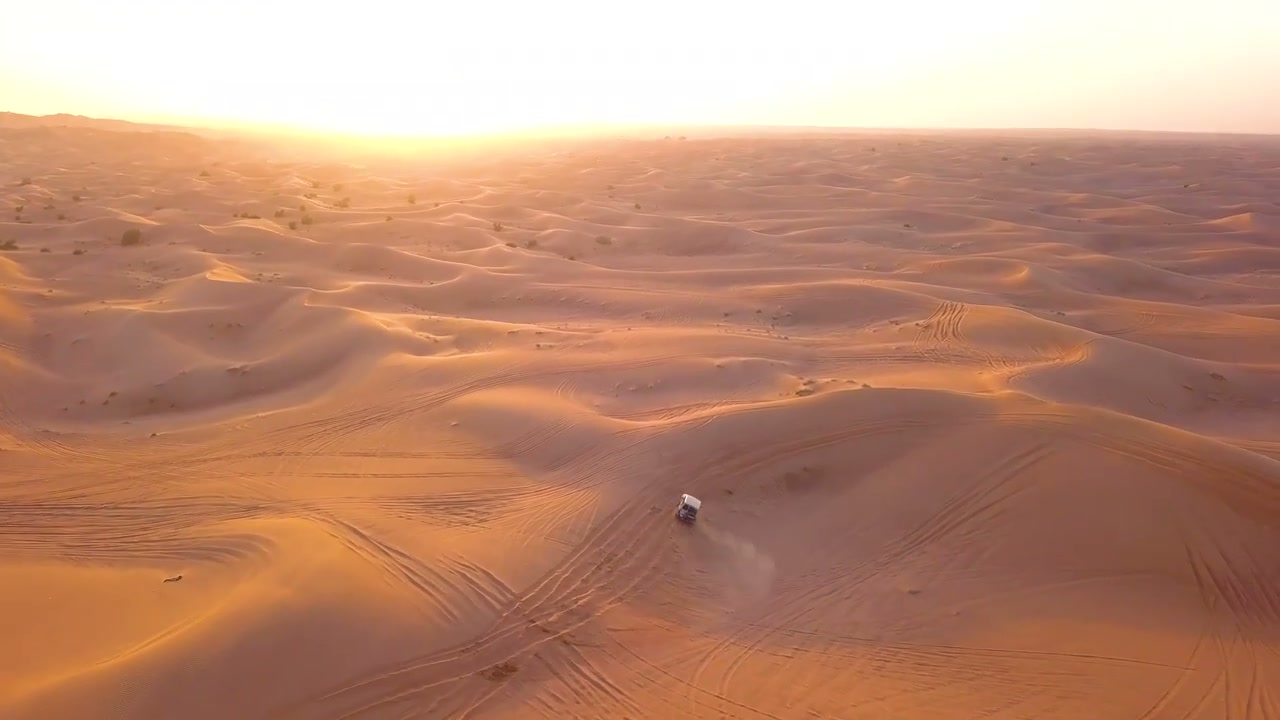vehicle_track: (294, 422, 917, 717), (312, 498, 663, 716), (110, 356, 683, 485), (251, 355, 686, 449), (877, 441, 1052, 566), (309, 511, 504, 622), (741, 622, 1187, 670), (1069, 426, 1279, 517), (0, 495, 278, 561), (691, 577, 842, 694), (605, 636, 781, 719), (715, 418, 927, 477), (0, 391, 123, 463), (1137, 614, 1220, 719), (913, 301, 1019, 371), (1004, 338, 1097, 384), (820, 345, 974, 371), (488, 415, 572, 458), (913, 301, 967, 361), (1097, 311, 1156, 336)
